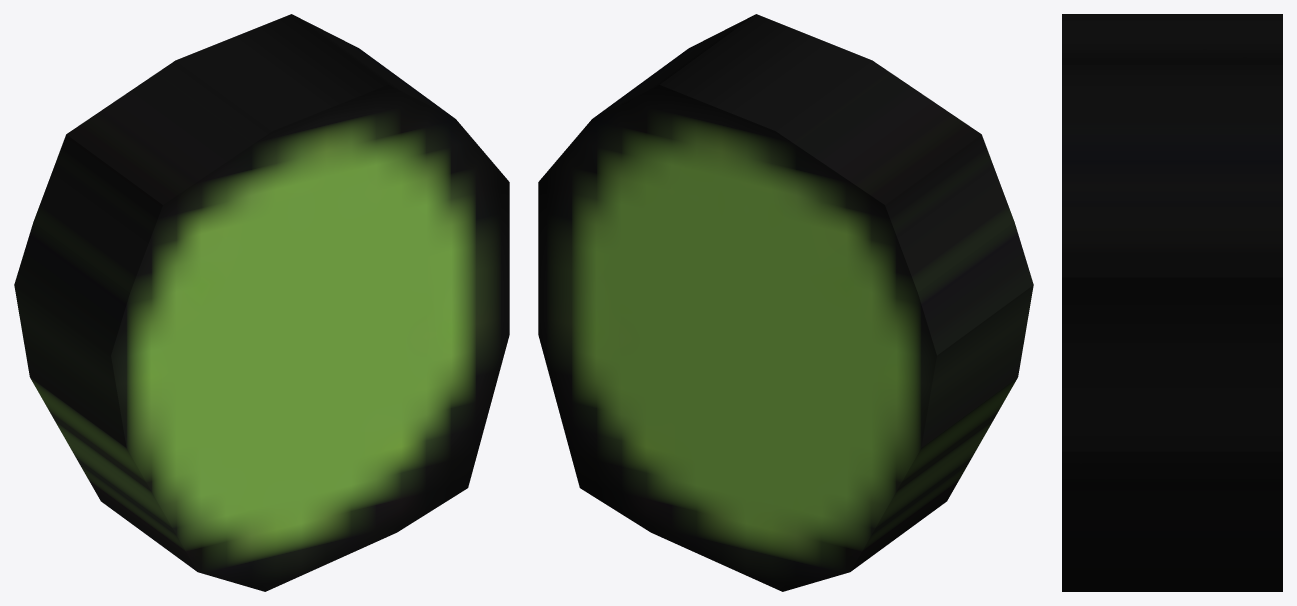
File: Pera_Hand.fbx
3 renders of one model, left to right at view 1: azimuth 30°, elevation 25°; view 2: azimuth 150°, elevation 25°; view 3: azimuth 270°, elevation 25°, orthographic. The views are drawn at different scales.
Parts seen in each view (by area): view 1: polySurface60; view 2: polySurface60; view 3: polySurface60.
Part boxes in pixels (left/top/right/bottom): polySurface60: left=14, top=14, right=509, bottom=591; polySurface60: left=538, top=14, right=1033, bottom=591; polySurface60: left=1062, top=14, right=1282, bottom=591.
Size of the model in its own units: 0.0922 by 0.1055 by 0.0388.
